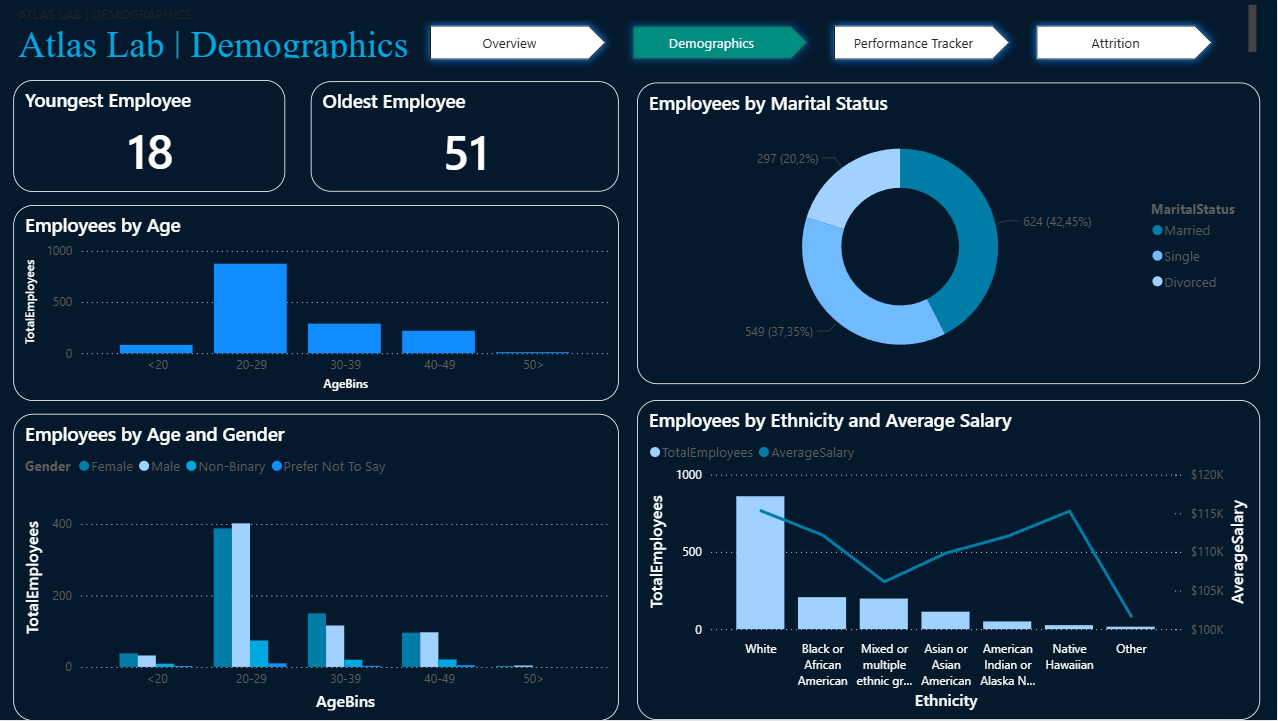

Layout of this report page (visuals, bound fields, positions):
{"tool":"powerbi","page":{"name":"Demographics","canvas":[1280,720],"ordinal":1},"visuals":[{"type":"card","title":"Youngest Employee","fields":{"Values":["Min(DimEmployee.Age)"]},"box":[16,80.1,272.3,112.1],"z":0},{"type":"card","title":"Oldest Employee","fields":{"Values":["Max(DimEmployee.Age)"]},"box":[313.2,81.9,307.9,110.3],"z":1000},{"type":"columnChart","title":"Employees by Age","fields":{"Category":["DimEmployee.AgeBins"],"Y":["_Measures.TotalEmployees"]},"box":[15.9,204.9,606,196.2],"z":2000},{"type":"clusteredColumnChart","title":"Employees by Age and Gender","fields":{"Category":["DimEmployee.AgeBins"],"Series":["DimEmployee.Gender"],"Y":["_Measures.TotalEmployees"]},"box":[15.9,414.1,606,307.3],"z":3000},{"type":"donutChart","title":"Employees by Marital Status","fields":{"Category":["DimEmployee.MaritalStatus"],"Y":["_Measures.TotalEmployees"]},"box":[640.6,82.2,623.3,301.5],"z":4000},{"type":"lineStackedColumnComboChart","title":"Employees by Ethnicity and Average Salary","fields":{"Category":["DimEmployee.Ethnicity"],"Y":["_Measures.TotalEmployees"],"Y2":["_Measures.AverageSalary"]},"box":[640.6,399.6,623.3,320.3],"z":5000},{"type":"textbox","box":[15.9,0,1248,63.5],"z":6000},{"type":"pageNavigator","box":[425.6,17.3,799.3,50.5],"z":7000}]}

Visuals, with their boxes in screenshot pixels (x1, y1, x2, y2), scaled from the page's 1280x720 canvas onto the 1278x721 screenshot:
"Youngest Employee" card: left=16, top=80, right=288, bottom=192
"Oldest Employee" card: left=313, top=82, right=620, bottom=192
"Employees by Age" columnChart: left=16, top=205, right=621, bottom=402
"Employees by Age and Gender" clusteredColumnChart: left=16, top=415, right=621, bottom=720
"Employees by Marital Status" donutChart: left=640, top=82, right=1262, bottom=384
"Employees by Ethnicity and Average Salary" lineStackedColumnComboChart: left=640, top=400, right=1262, bottom=720
textbox: left=16, top=0, right=1262, bottom=64
pageNavigator: left=425, top=17, right=1223, bottom=68
